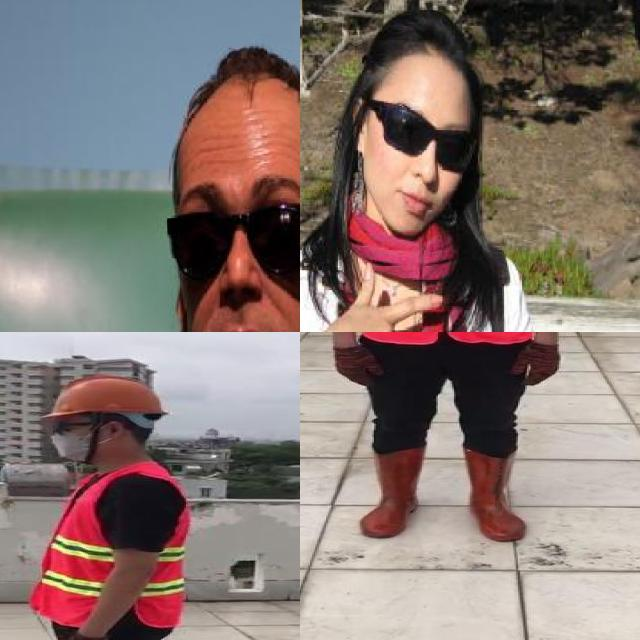boots: (459, 448, 529, 541), (363, 446, 429, 538)
face_mask: (46, 417, 102, 462)
face_nomask: (169, 201, 300, 332), (367, 96, 481, 225)
glasses: (171, 180, 300, 282), (358, 96, 482, 174)
hand_noglove: (315, 258, 455, 332)
head_helmet: (43, 373, 173, 422)
head_nohelmet: (163, 40, 300, 137), (345, 0, 485, 83)
person: (300, 0, 557, 332), (0, 69, 300, 332), (305, 332, 581, 545), (16, 372, 210, 640)
vest: (35, 464, 189, 629)
